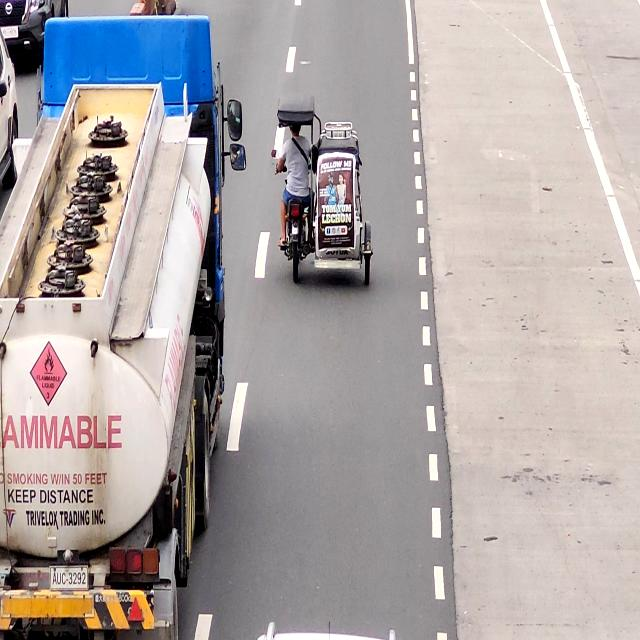License-Plate: (48, 567, 90, 588)
Tricycle: (275, 95, 376, 282)
Truck: (0, 13, 228, 640)
